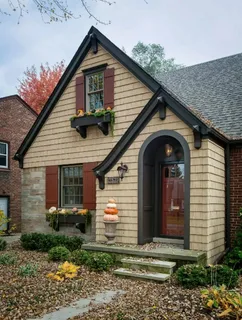private_hause: (34, 33, 235, 262)
